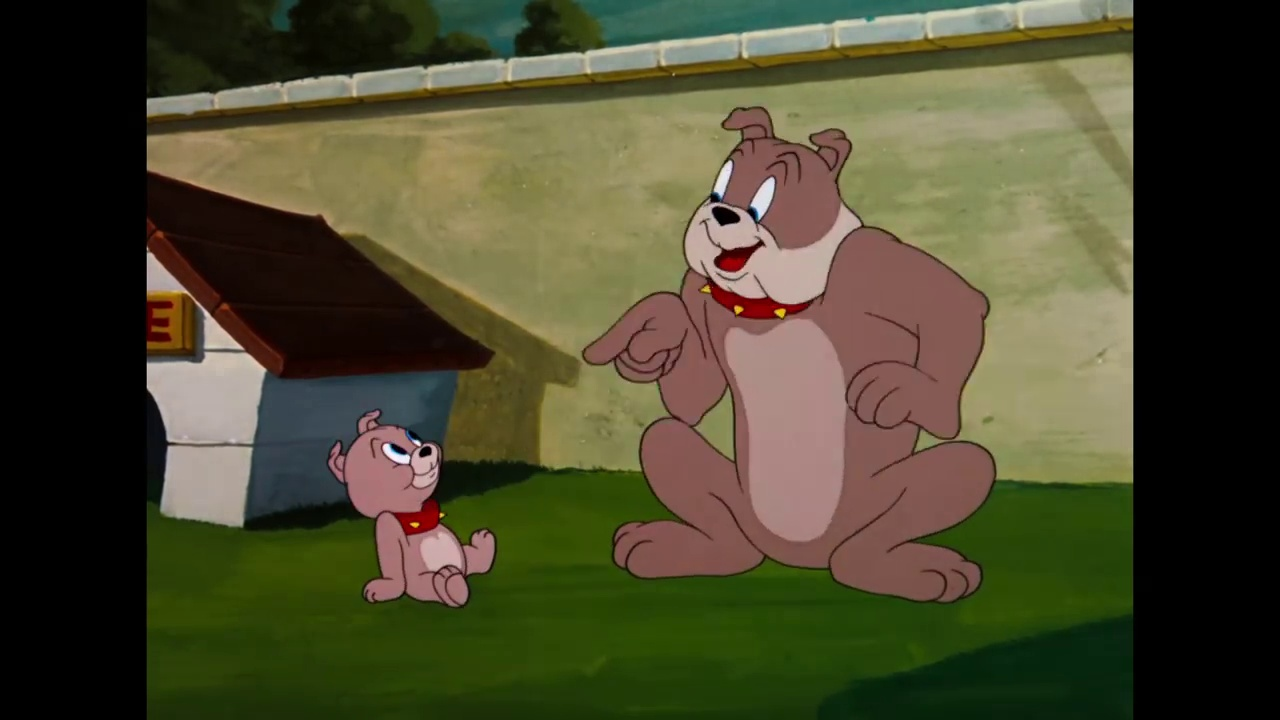spike: (677, 101, 867, 323)
